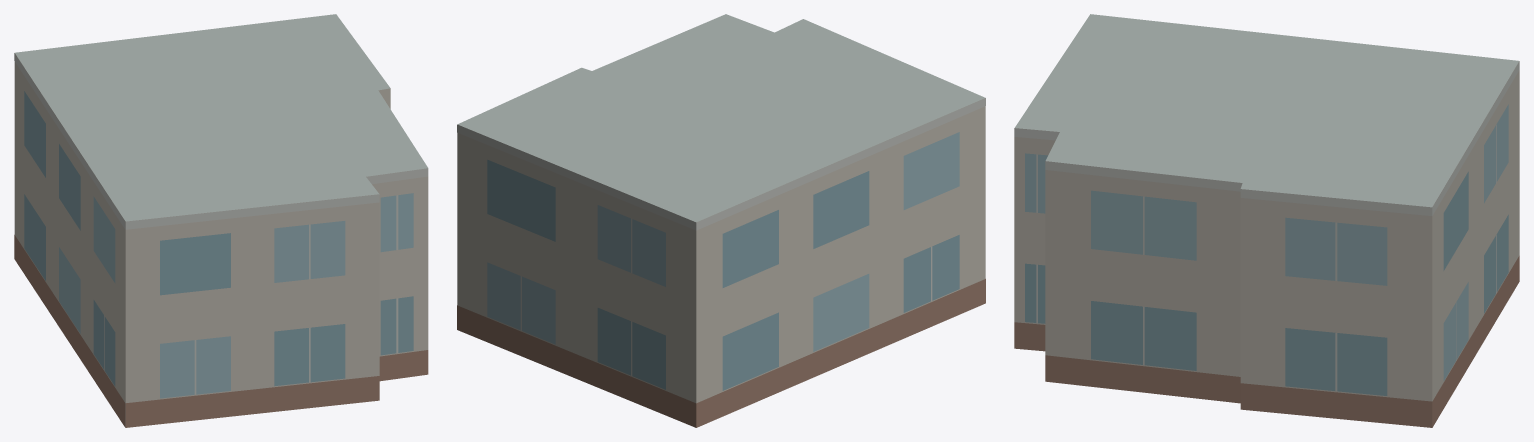
Rendered from survey-upis-32541002.glb.
3 views of the same model, side by side, from view 1: azimuth 30°, elevation 25°; view 2: azimuth 150°, elevation 25°; view 3: azimuth 270°, elevation 25° (orthographic). The views are drawn at different scales.
Parts seen in each view (by area): view 1: survey-upis-32541002.tmp; view 2: survey-upis-32541002.tmp; view 3: survey-upis-32541002.tmp.
Boxes of the visible parts, x1=… form: survey-upis-32541002.tmp: x1=14, y1=14, x2=428, y2=427; survey-upis-32541002.tmp: x1=457, y1=14, x2=985, y2=427; survey-upis-32541002.tmp: x1=1014, y1=14, x2=1519, y2=427.
Size of the model in its own units: 11.48 by 6.1 by 12.67.
